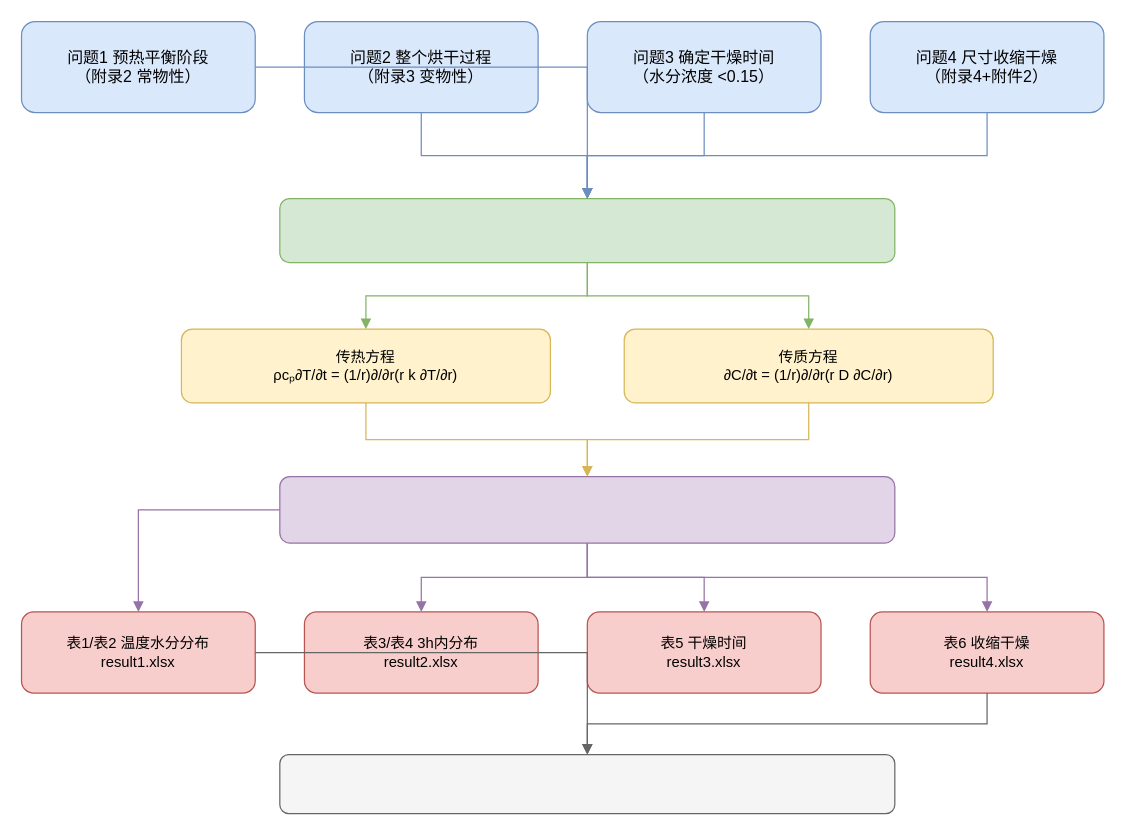
Some shapes in this 1125 by 835 pixel diagram are drawn without their labels. Here are the shapes that lost their labels. From the top down, the box of each, then its label:
(279, 197, 895, 263): 圆柱药材一维径向传热—传质耦合模型
(279, 475, 895, 543): Crank–Nicolson 隐式有限差分（控制体积法） 固定点迭代耦合 + Python 数值求解
(279, 753, 895, 814): 结果验证：网格收敛性检验 + 灵敏度/SHAP 分析 + 误差分析
